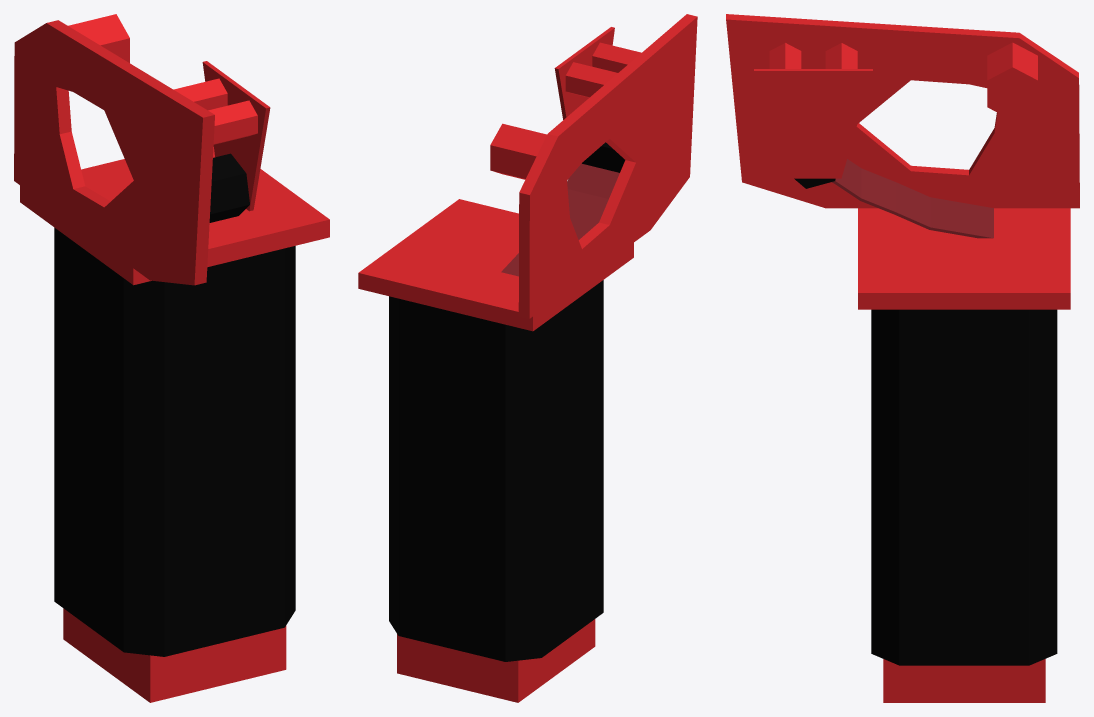
Rendered from Handle.glb.
3 views of the same model, side by side, from view 1: azimuth 30°, elevation 25°; view 2: azimuth 150°, elevation 25°; view 3: azimuth 270°, elevation 25° (orthographic). The views are drawn at different scales.
Parts seen in each view (by area): view 1: Мягкая рукоятка, Cube.003, Cube, Cube.001; view 2: Мягкая рукоятка, Cube, Cube.003, Cube.002, Cube.001; view 3: Мягкая рукоятка, Cube, Cube.003, Cube.002.
Boxes of the visible parts, left/top/right/bottom form: Мягкая рукоятка: left=54, top=227, right=295, bottom=656; Cube.003: left=14, top=20, right=214, bottom=285; Cube: left=20, top=14, right=329, bottom=702; Cube.001: left=209, top=153, right=249, bottom=222; Мягкая рукоятка: left=389, top=280, right=603, bottom=661; Cube: left=358, top=27, right=641, bottom=702; Cube.003: left=518, top=14, right=697, bottom=318; Cube.002: left=501, top=163, right=619, bottom=276; Cube.001: left=582, top=142, right=625, bottom=172; Мягкая рукоятка: left=871, top=309, right=1057, bottom=665; Cube: left=754, top=42, right=1070, bottom=702; Cube.003: left=726, top=14, right=1079, bottom=208; Cube.002: left=831, top=159, right=993, bottom=238.
Bounding box in the file's own units: 0.2968 × 0.9398 × 0.4921.
